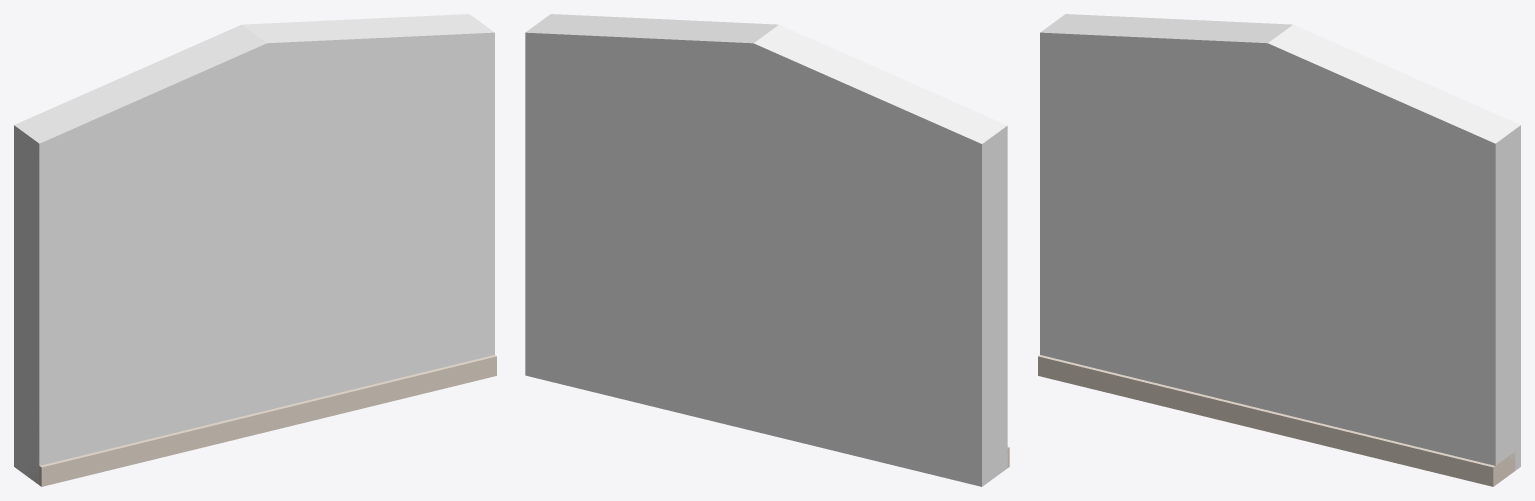
File: main door.fbx
3 views of the same model, side by side, from view 1: azimuth 30°, elevation 25°; view 2: azimuth 150°, elevation 25°; view 3: azimuth 330°, elevation 25° (orthographic).
Visible parts, largest first — view 1: CTRL_Hole.011, Window.003; view 2: CTRL_Hole.011, Window.003; view 3: CTRL_Hole.011, Window.003.
Boxes of the visible parts, x1=… form: CTRL_Hole.011: x1=14, y1=14, x2=494, y2=483; Window.003: x1=24, y1=21, x2=496, y2=486; CTRL_Hole.011: x1=525, y1=14, x2=1007, y2=486; Window.003: x1=536, y1=21, x2=1009, y2=467; CTRL_Hole.011: x1=1040, y1=14, x2=1520, y2=470; Window.003: x1=1038, y1=21, x2=1515, y2=486.
Size of the model in its own units: 464 by 376 by 48.66.
